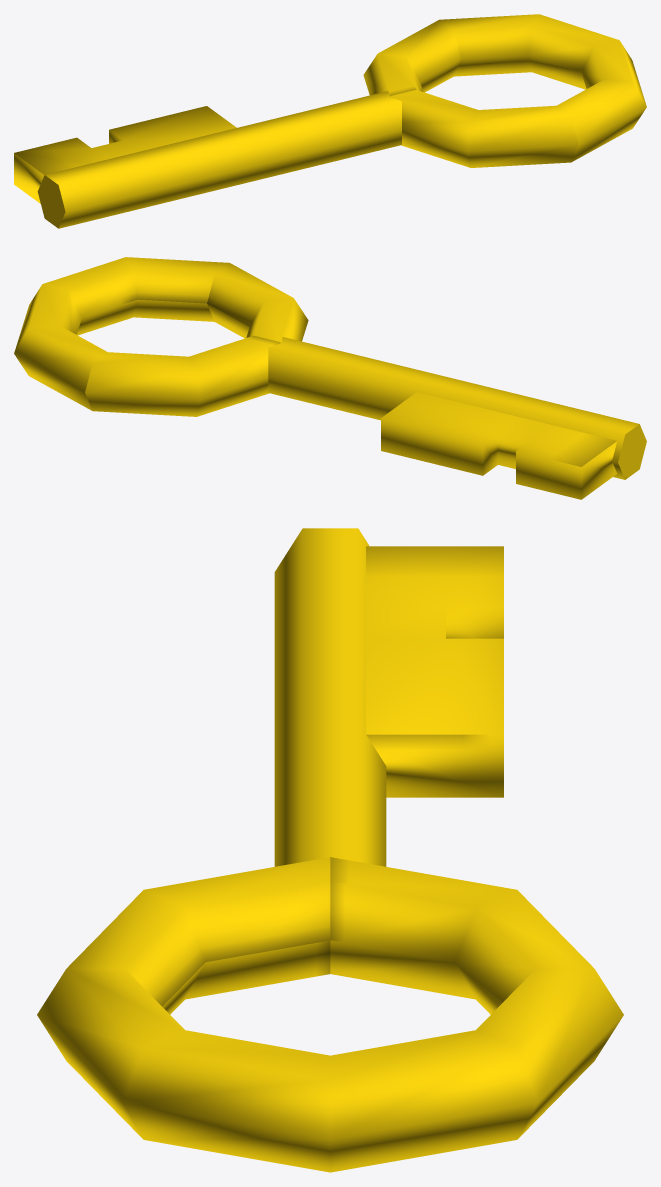
Rendered from Props_Llave.fbx.
The picture shows the model from 3 angles, top to bottom: view 1: azimuth 30°, elevation 25°; view 2: azimuth 150°, elevation 25°; view 3: azimuth 270°, elevation 25°; orthographic projection. The views are drawn at different scales.
Parts seen in each view (by area): view 1: Llave; view 2: Llave; view 3: Llave.
Part boxes in pixels (box(x1,y1,x2,y2)): Llave: box(14, 14, 646, 228); Llave: box(14, 257, 646, 499); Llave: box(37, 528, 623, 1172).
Size of the model in its own units: 59.69 by 4.53 by 26.14.
